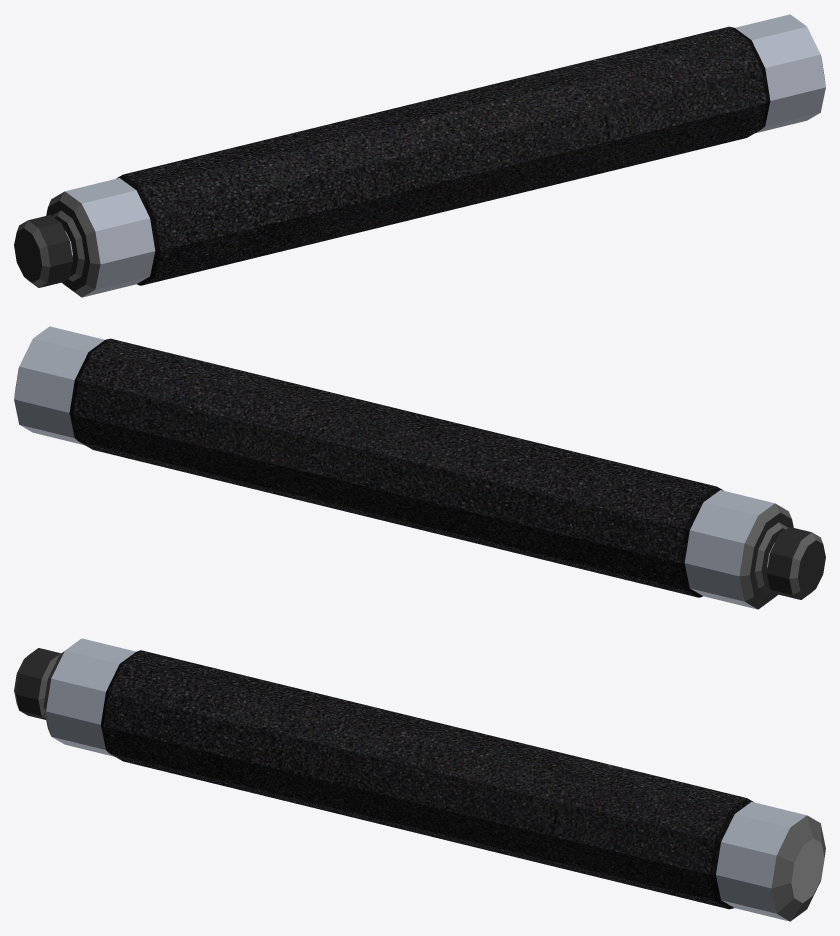
Rendered from CollapsedBaton.fbx.
3 views of the same model, one above another, from view 1: azimuth 30°, elevation 25°; view 2: azimuth 150°, elevation 25°; view 3: azimuth 330°, elevation 25° (orthographic).
Visible parts, largest first — view 1: ZomboidCollapsedBaton; view 2: ZomboidCollapsedBaton; view 3: ZomboidCollapsedBaton.
Boxes of the visible parts, left/top/right/bottom form: ZomboidCollapsedBaton: left=14, top=14, right=825, bottom=297; ZomboidCollapsedBaton: left=14, top=326, right=825, bottom=609; ZomboidCollapsedBaton: left=14, top=638, right=825, bottom=921.
Bounding box in the file's own units: 0.1283 × 0.0155 × 0.0163.
